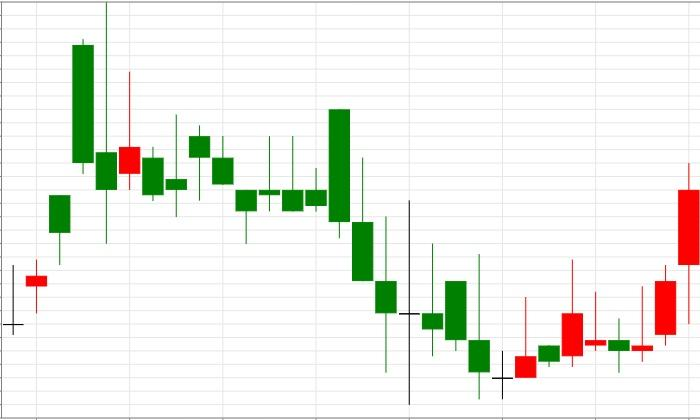morning_star_rise: (328, 109, 537, 406)
